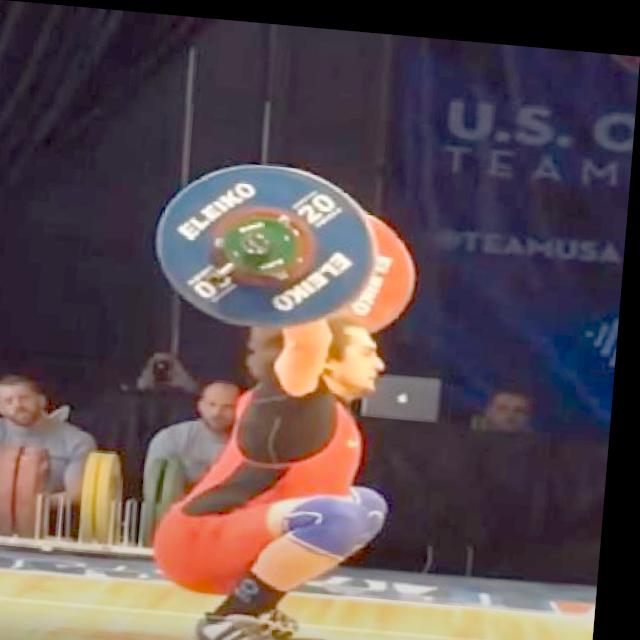barbell: (151, 143, 386, 332)
